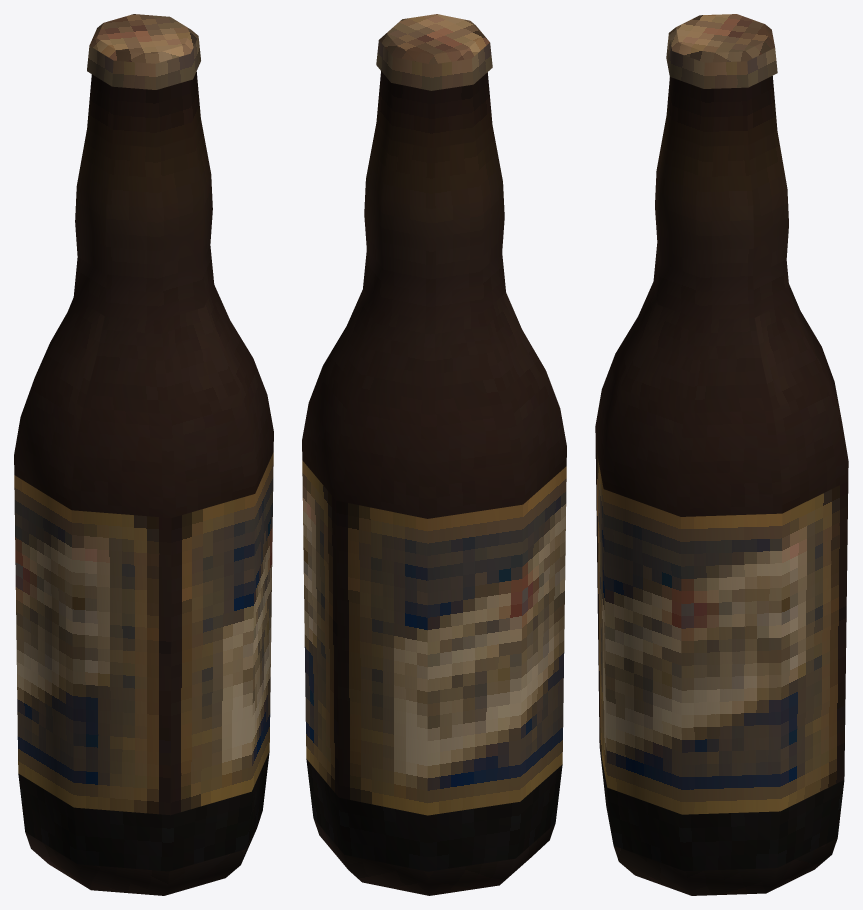
The model's file is glass_bottle_1.fbx.
3 views of the same model, side by side, from view 1: azimuth 30°, elevation 25°; view 2: azimuth 150°, elevation 25°; view 3: azimuth 270°, elevation 25° (orthographic).
Visible parts, largest first — view 1: glass_bottle_1; view 2: glass_bottle_1; view 3: glass_bottle_1.
Part boxes in pixels (x1=…): glass_bottle_1: x1=14, y1=14, x2=273, y2=895; glass_bottle_1: x1=302, y1=14, x2=566, y2=895; glass_bottle_1: x1=595, y1=14, x2=848, y2=895.
Size of the model in its own units: 0.1096 by 0.1096 by 0.3931.
